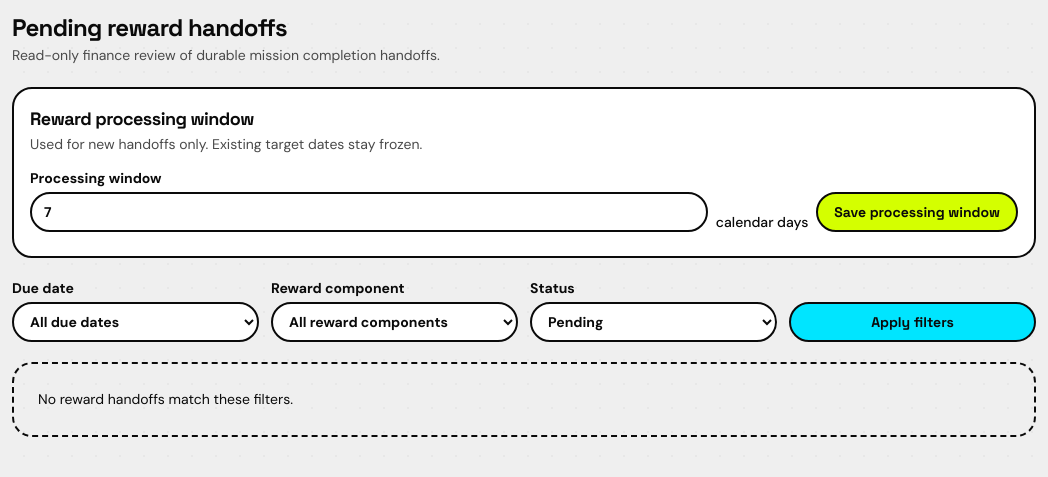
RewardHandoffQueue › announces a successful SLA save under StrictMode
The image size is (1048, 477).
Replace the text in the field labelled "Processing window" with "12". click: (369, 212)
box: [30,192,708,232]
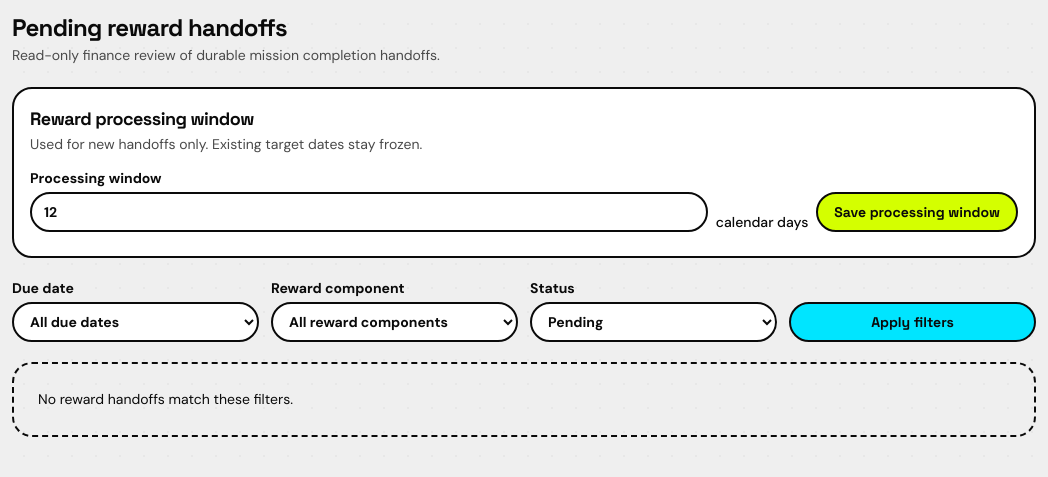
Click the button "Save processing window". click: (917, 212)
box: [816,192,1018,232]
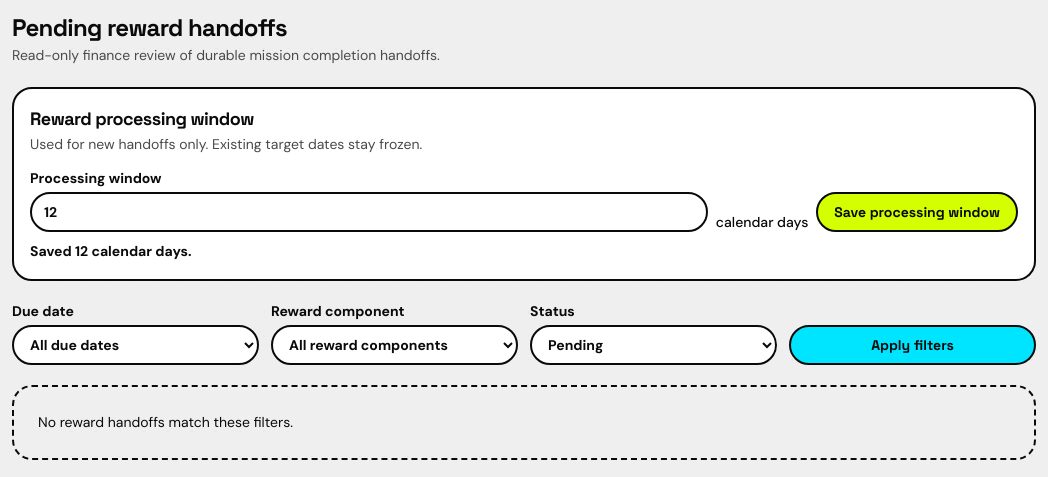
Expected: the message reads "Saved 12 calendar days.", [30,242,192,260]
